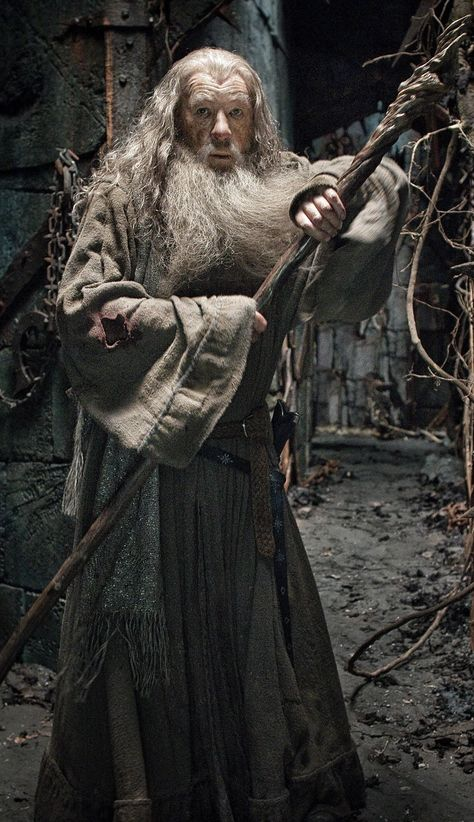gandalf grey: (28, 20, 441, 811)
